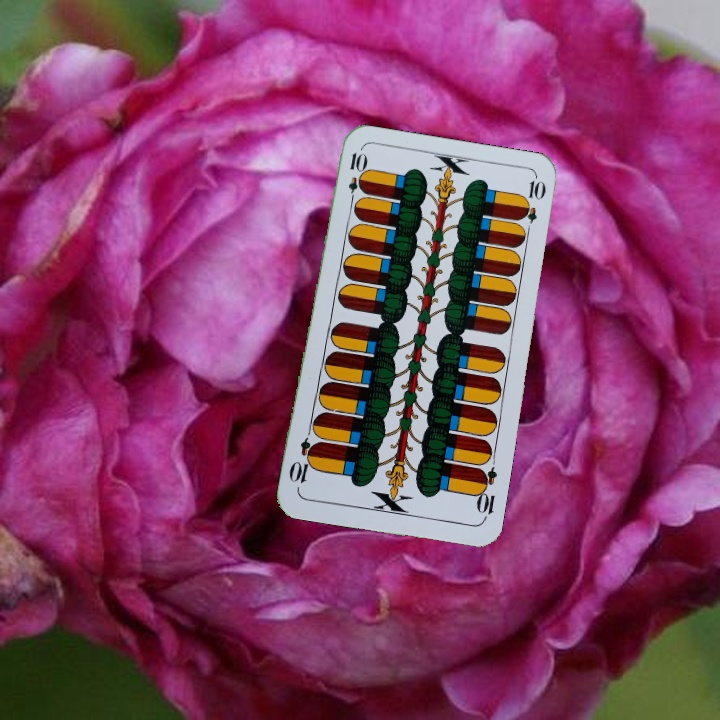E10: (471, 464, 500, 523), (344, 148, 366, 208)
